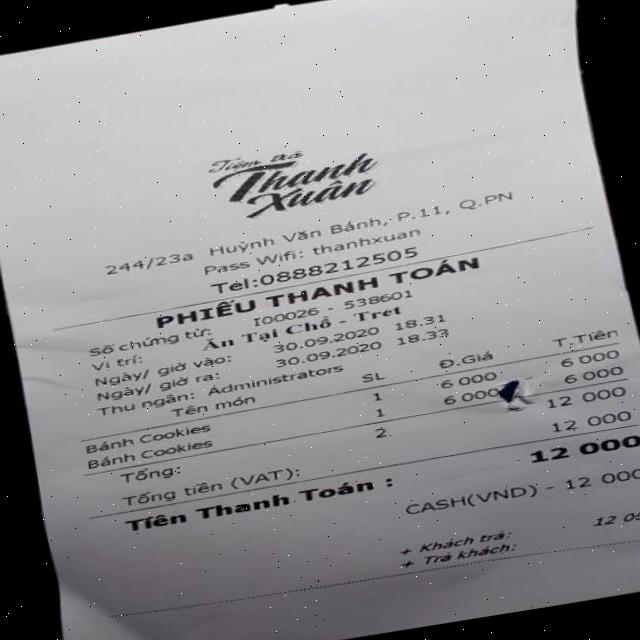Date: (261, 321, 390, 360)
Store_Name: (162, 115, 406, 238)
amount_number: (526, 428, 640, 471)
label_total: (124, 471, 399, 536)
